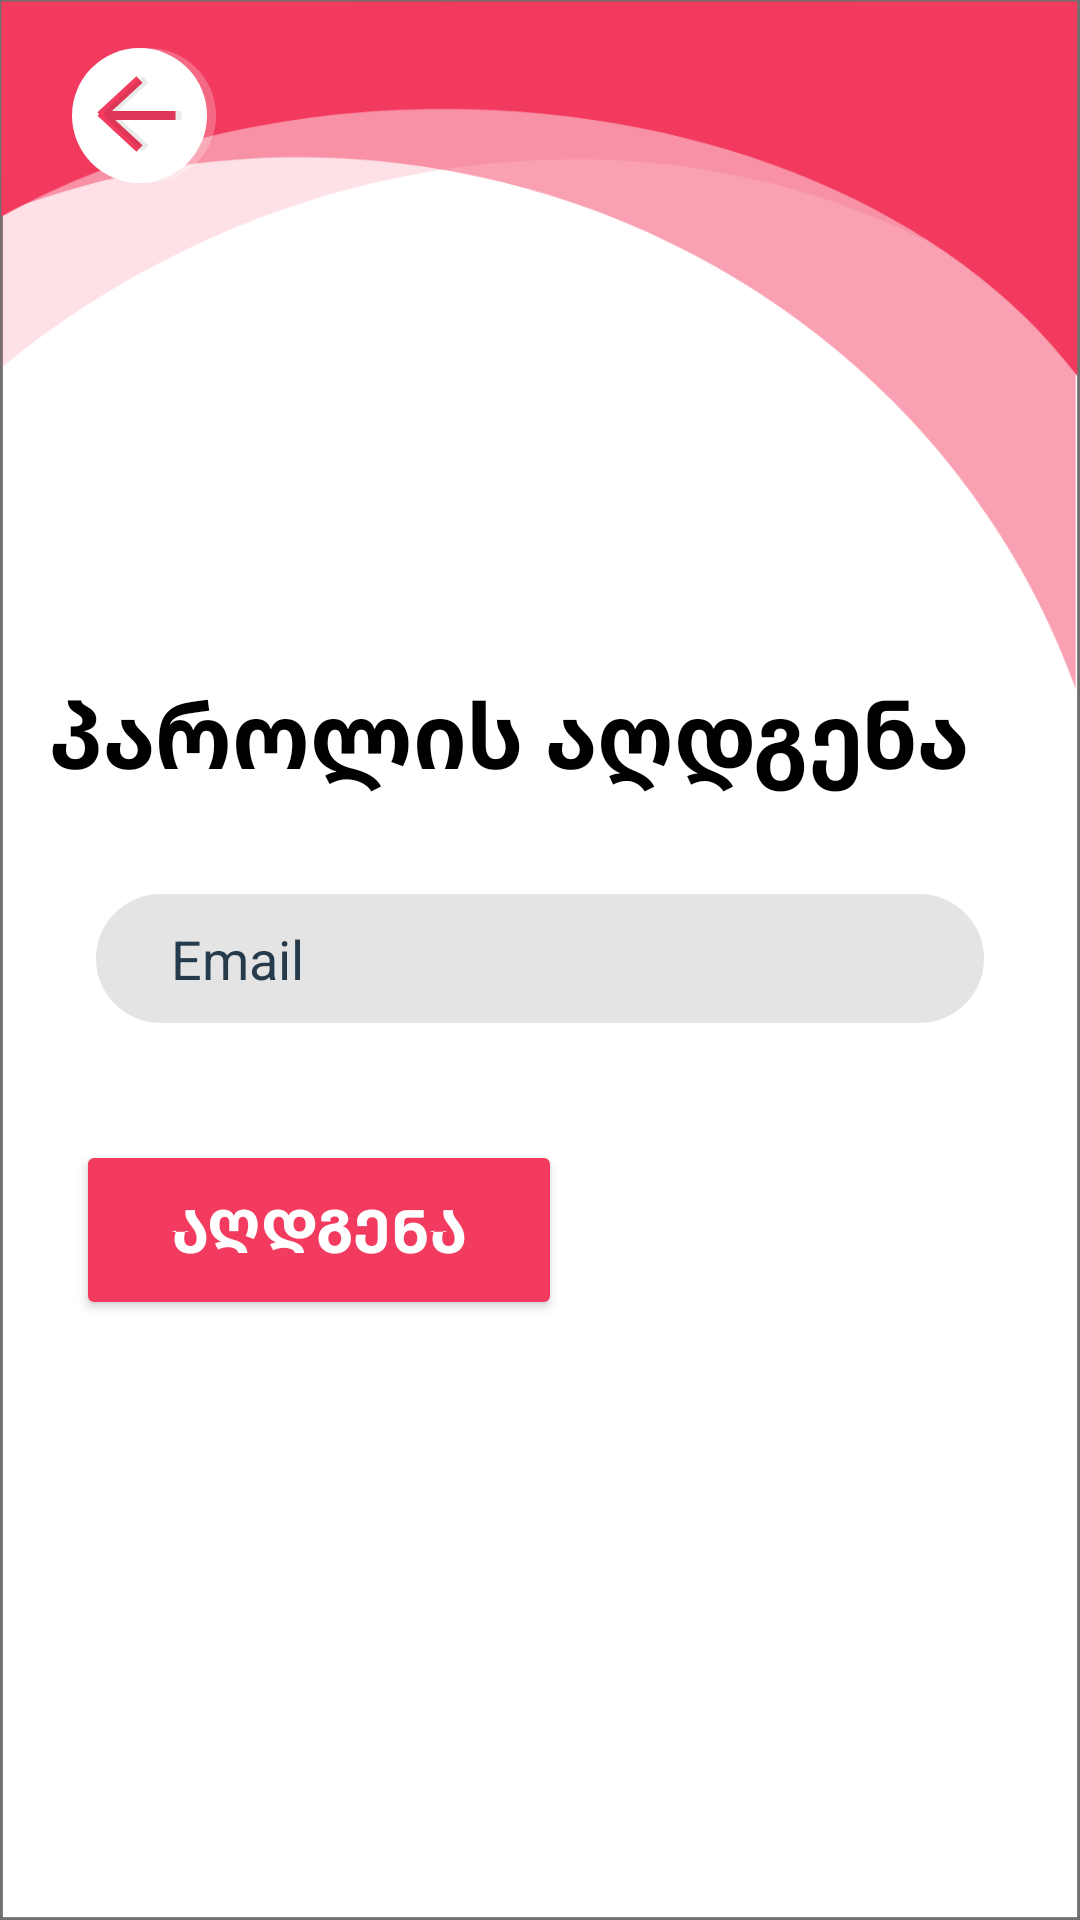

Where to tap for icons on this 1080x1920 app screen, as point (x, y):
gotobackbutton: point (144, 115)
